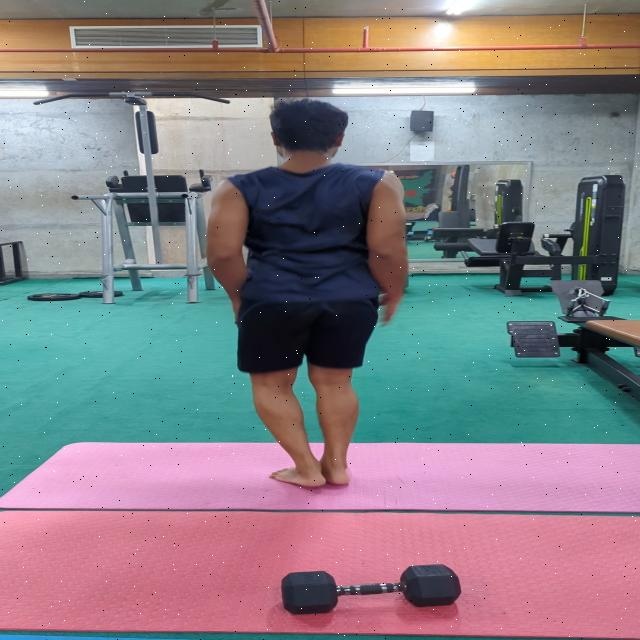Normal_JumpingJacks: (101, 60, 468, 486)
